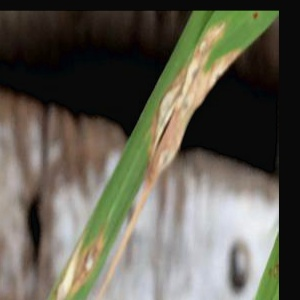Brown_Spot: (135, 24, 245, 179), (73, 234, 108, 279)
